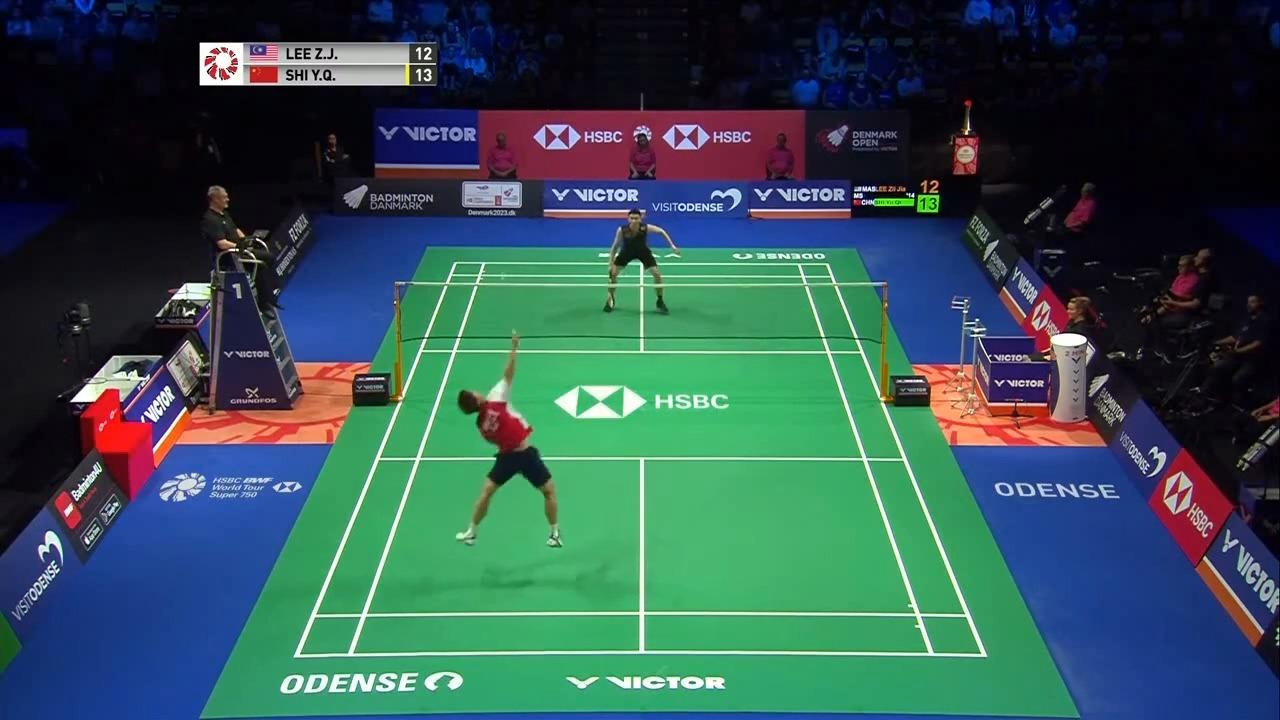shuttle: (501, 275, 514, 283)
